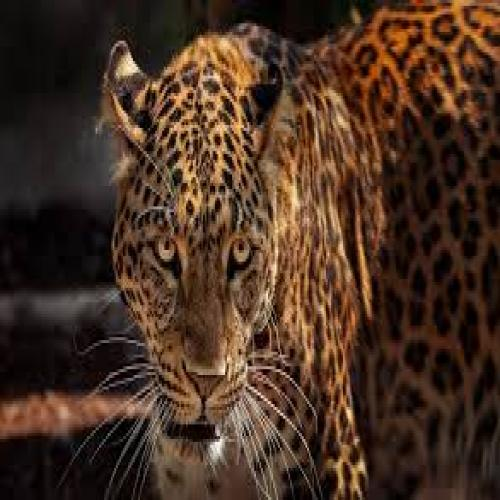jaguar_not-endangered: (116, 30, 378, 487)
